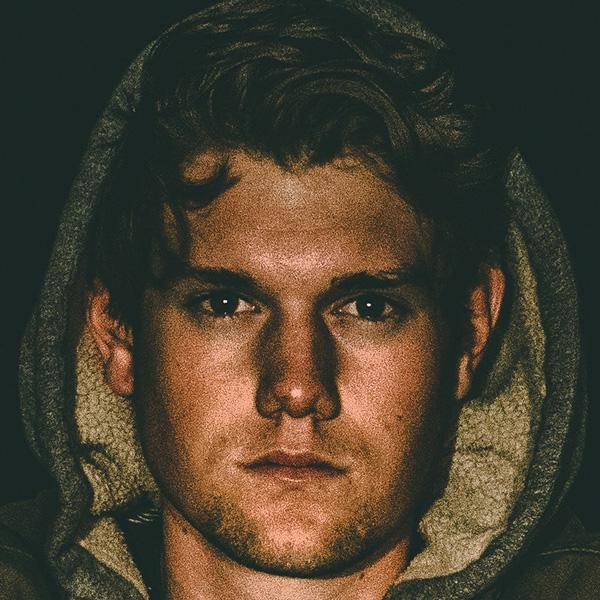Eyes: (179, 278, 265, 334), (325, 286, 416, 336)
